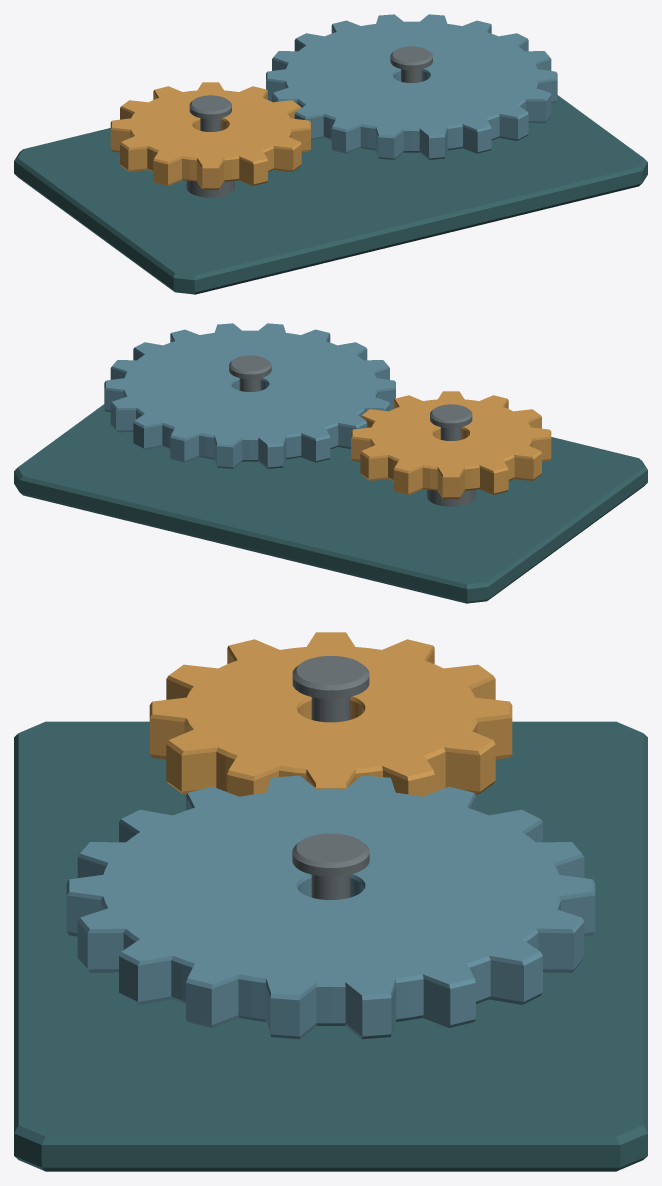
The picture shows the model from 3 angles, top to bottom: view 1: azimuth 30°, elevation 25°; view 2: azimuth 150°, elevation 25°; view 3: azimuth 270°, elevation 25°; orthographic projection. The views are drawn at different scales.
Parts seen in each view (by area): view 1: Base_ChamferedGrounded, Gear18_ContinuousTeethAndBore, Gear12_ContinuousTeethAndBore, Shaft12_FixedCollarAndStopCap, Shaft18_FixedCollarAndStopCap; view 2: Base_ChamferedGrounded, Gear18_ContinuousTeethAndBore, Gear12_ContinuousTeethAndBore, Shaft12_FixedCollarAndStopCap, Shaft18_FixedCollarAndStopCap; view 3: Base_ChamferedGrounded, Gear18_ContinuousTeethAndBore, Gear12_ContinuousTeethAndBore, Shaft18_FixedCollarAndStopCap, Shaft12_FixedCollarAndStopCap.
Part boxes in pixels (x1=…): Base_ChamferedGrounded: x1=14, y1=95, x2=647, y2=294; Gear18_ContinuousTeethAndBore: x1=266, y1=14, x2=557, y2=159; Gear12_ContinuousTeethAndBore: x1=110, y1=82, x2=310, y2=189; Shaft12_FixedCollarAndStopCap: x1=186, y1=95, x2=234, y2=197; Shaft18_FixedCollarAndStopCap: x1=390, y1=46, x2=432, y2=82; Base_ChamferedGrounded: x1=14, y1=404, x2=647, y2=603; Gear18_ContinuousTeethAndBore: x1=104, y1=323, x2=395, y2=468; Gear12_ContinuousTeethAndBore: x1=351, y1=391, x2=551, y2=498; Shaft12_FixedCollarAndStopCap: x1=427, y1=404, x2=475, y2=506; Shaft18_FixedCollarAndStopCap: x1=229, y1=355, x2=271, y2=391; Base_ChamferedGrounded: x1=14, y1=721, x2=647, y2=1171; Gear18_ContinuousTeethAndBore: x1=66, y1=775, x2=595, y2=1039; Gear12_ContinuousTeethAndBore: x1=149, y1=632, x2=512, y2=796; Shaft18_FixedCollarAndStopCap: x1=292, y1=833, x2=369, y2=899; Shaft12_FixedCollarAndStopCap: x1=292, y1=656, x2=369, y2=722.
Bounding box in the file's own units: 0.72 × 0.15 × 0.46.
